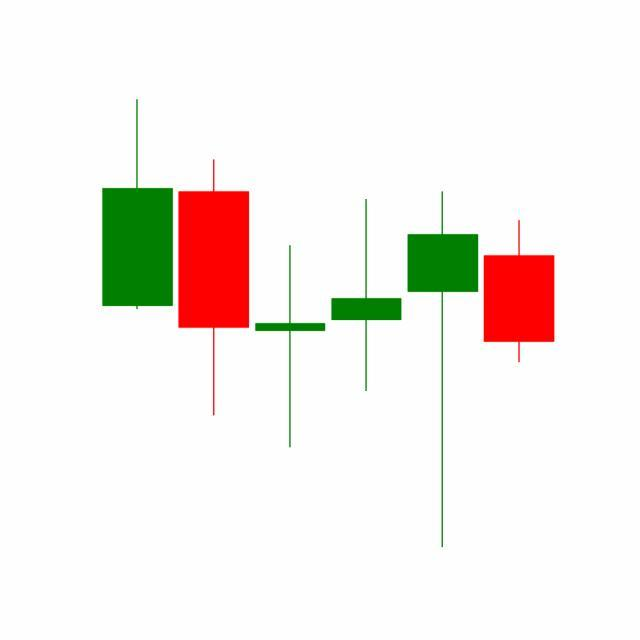Rising-Falling Three Methods: (175, 156, 555, 549)
